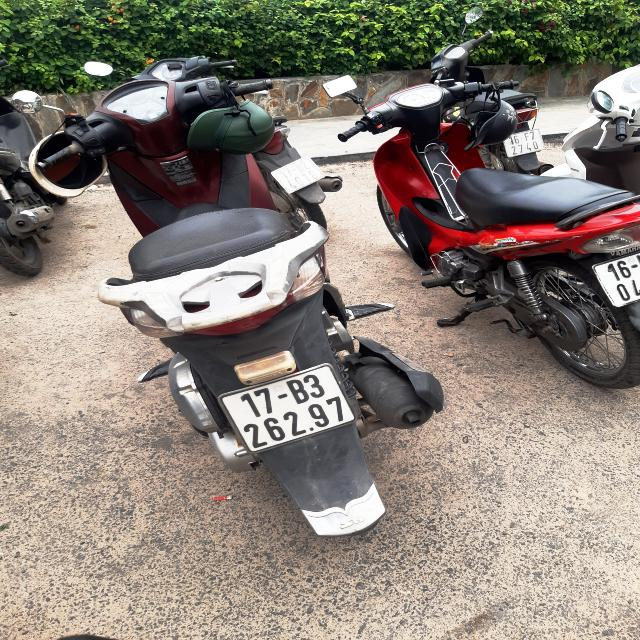license_plate: (207, 357, 369, 462)
